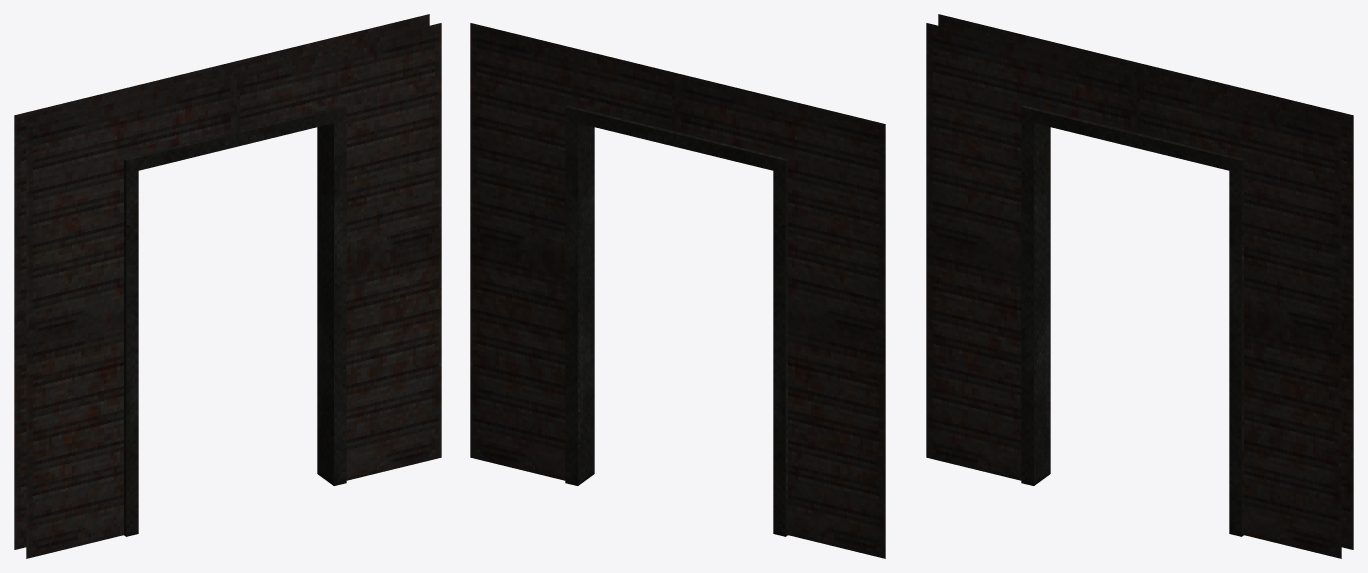
Rendered from doorway_slim_1_2.glb.
The picture shows the model from 3 angles, left to right: view 1: azimuth 30°, elevation 25°; view 2: azimuth 150°, elevation 25°; view 3: azimuth 330°, elevation 25°; orthographic projection.
Visible parts, largest first — view 1: doorway_slim_1_2; view 2: doorway_slim_1_2; view 3: doorway_slim_1_2.
Part boxes in pixels (x1=…): doorway_slim_1_2: x1=14, y1=14, x2=441, y2=558; doorway_slim_1_2: x1=470, y1=23, x2=885, y2=558; doorway_slim_1_2: x1=926, y1=14, x2=1353, y2=558.
Size of the model in its own units: 2 by 2 by 0.14.
2 materials, 2 textured.
